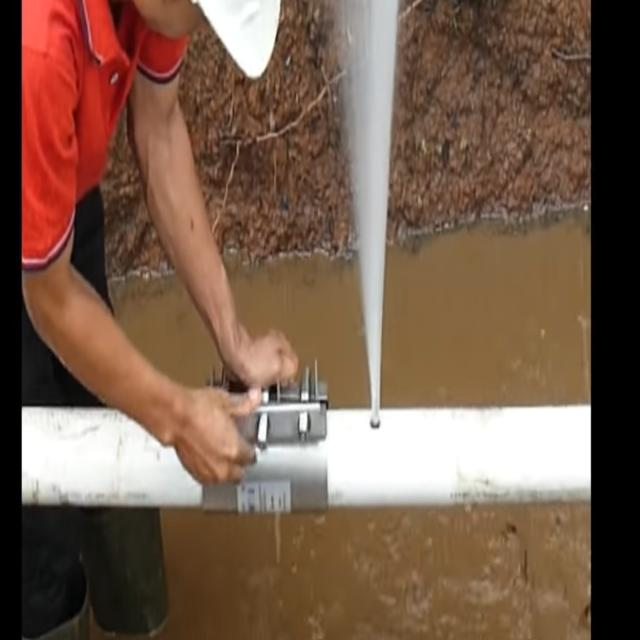leak: (340, 0, 398, 427)
